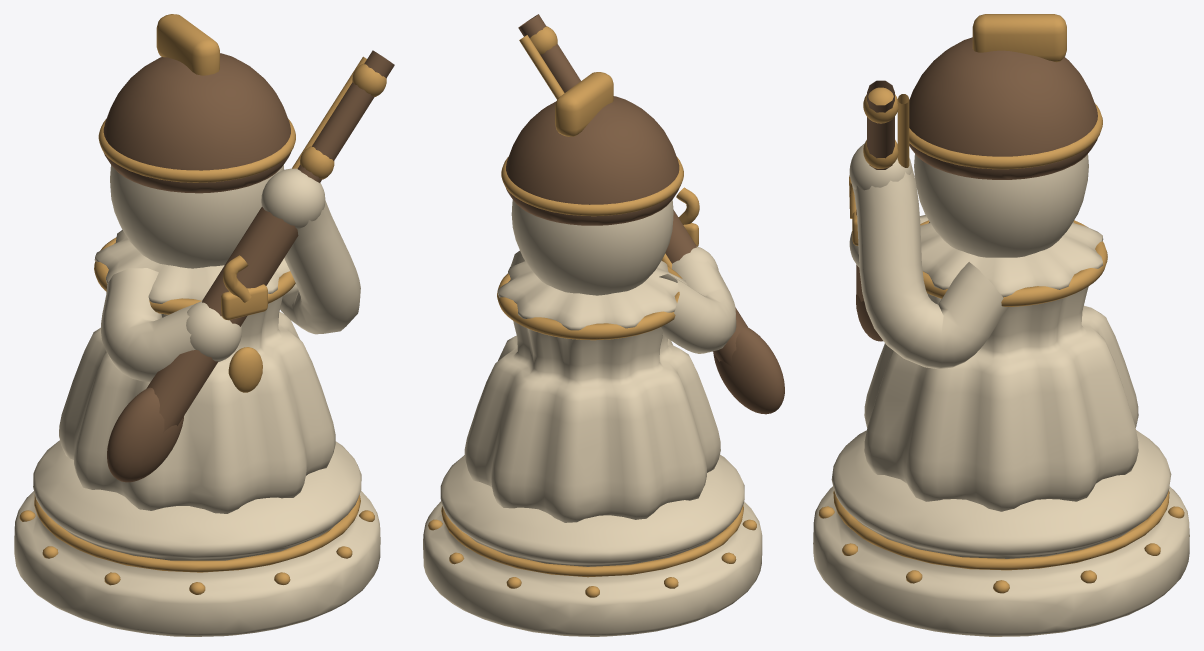
The model's file is musket_pawn.glb.
3 views of the same model, side by side, from view 1: azimuth 30°, elevation 25°; view 2: azimuth 150°, elevation 25°; view 3: azimuth 270°, elevation 25° (orthographic). The views are drawn at different scales.
Visible parts, largest first — view 1: PIECE_MusketPawn_Sculpture, PIECE_MusketPawn_Base; view 2: PIECE_MusketPawn_Sculpture, PIECE_MusketPawn_Base; view 3: PIECE_MusketPawn_Sculpture, PIECE_MusketPawn_Base.
Part boxes in pixels (<box>): PIECE_MusketPawn_Sculpture: <box>59,14,394,513</box>; PIECE_MusketPawn_Base: <box>14,440,380,636</box>; PIECE_MusketPawn_Sculpture: <box>464,14,784,522</box>; PIECE_MusketPawn_Base: <box>423,454,762,636</box>; PIECE_MusketPawn_Sculpture: <box>849,14,1138,511</box>; PIECE_MusketPawn_Base: <box>813,430,1189,636</box>.
Size of the model in its own units: 0.719 by 1.15 by 0.719.
